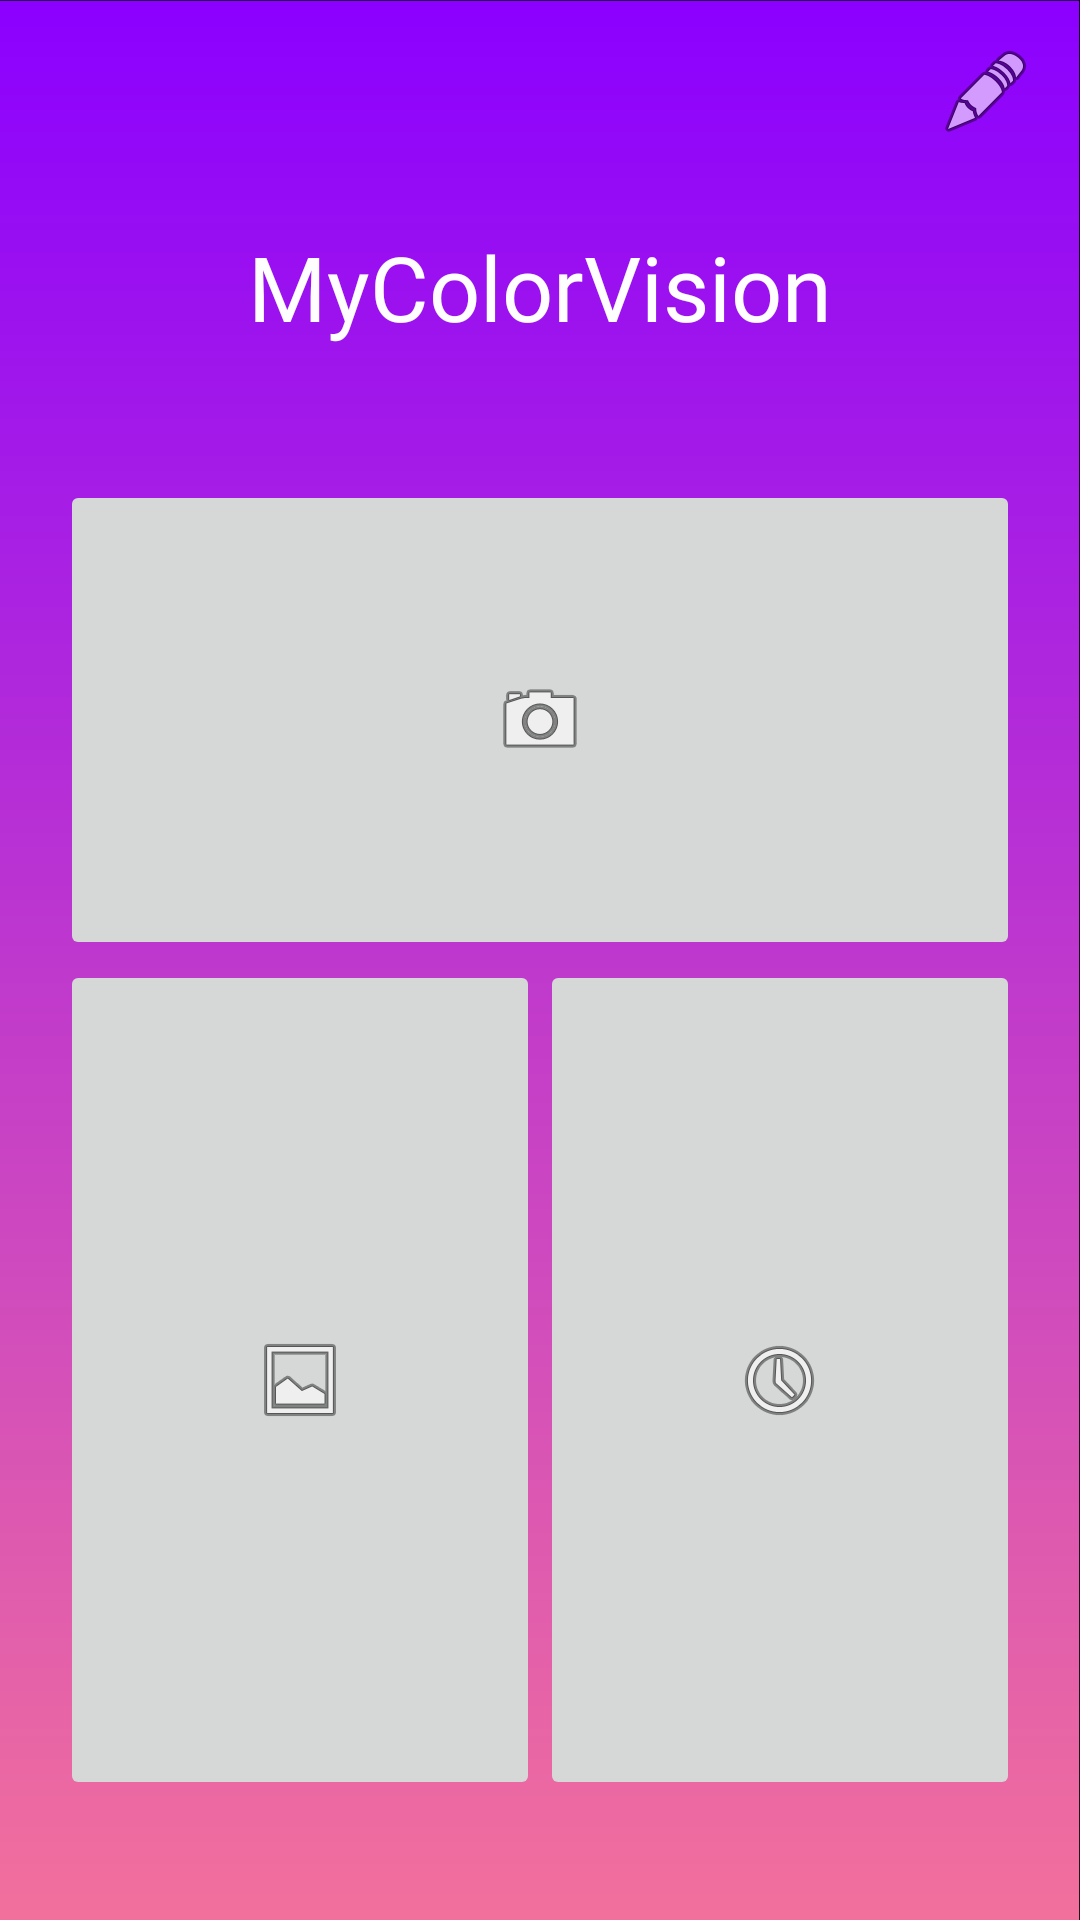

Icons on this 1080w x 1920h Android screen, each with its box as bbox=(x1, y1, x2, y2):
edit: bbox=(945, 51, 1026, 132)
